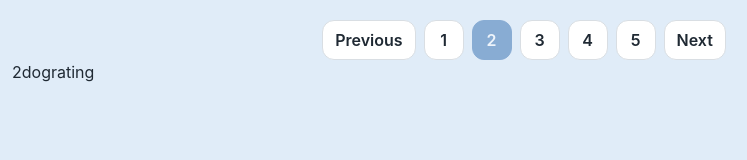
Test: ProductPagination › moves to the next page while preserving other catalog state
The image size is (747, 160).
Click the button "Next" at point(695, 40), box [664,20,726,60]
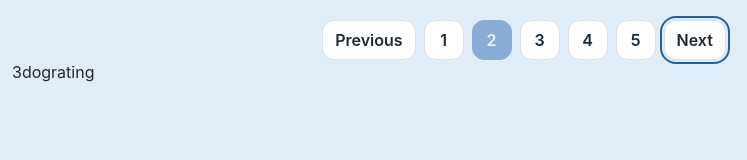
Expected: the text with test id "pet-param" reads "dog", [22,62,51,82]
Expected: the text with test id "page-param" reads "3", [12,62,22,82]
